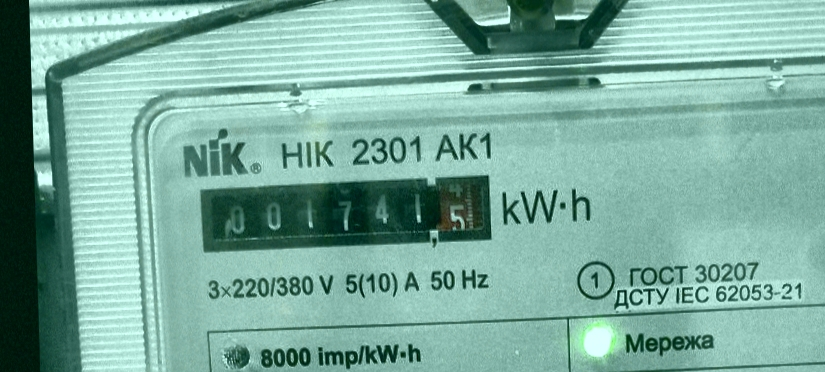0: (261, 198, 281, 232), (225, 202, 245, 235)
1: (297, 195, 315, 231), (407, 190, 423, 226)
4: (369, 190, 390, 226), (444, 180, 461, 199)
5: (444, 200, 464, 232)
7: (333, 197, 351, 232)
screen: (191, 168, 496, 258)
